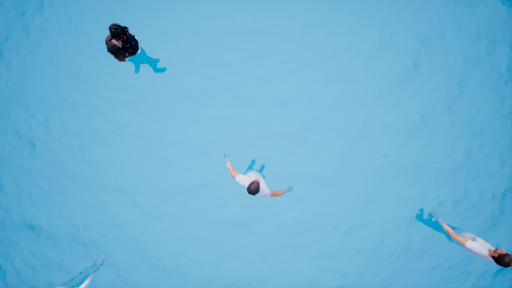person: (419, 213, 512, 269), (216, 149, 296, 203), (103, 16, 168, 79)
